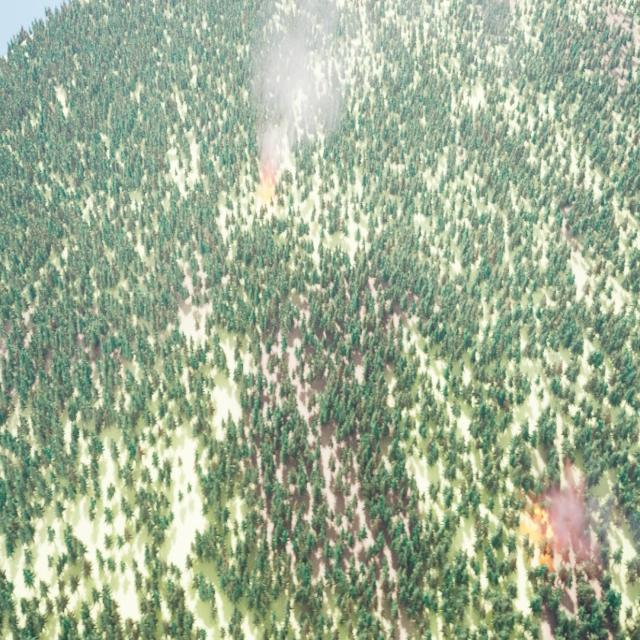fire: (523, 497, 554, 573), (254, 172, 278, 206)
smoke: (253, 0, 351, 172), (553, 461, 601, 566)
